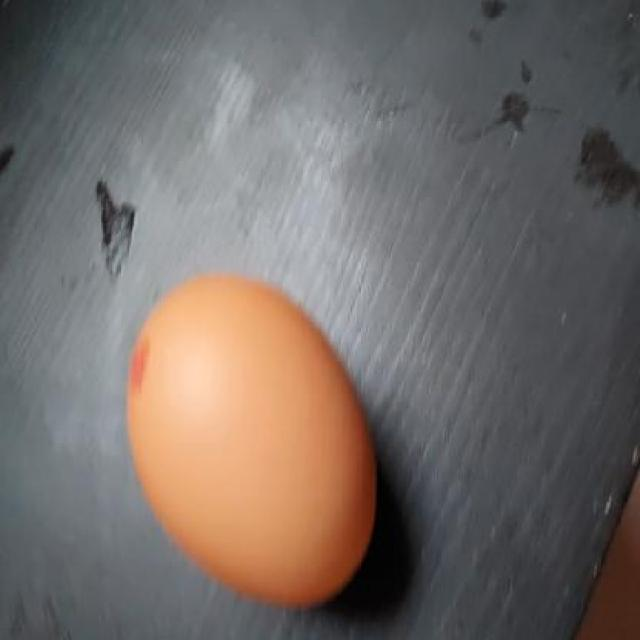biodegradable: (126, 272, 377, 610)
